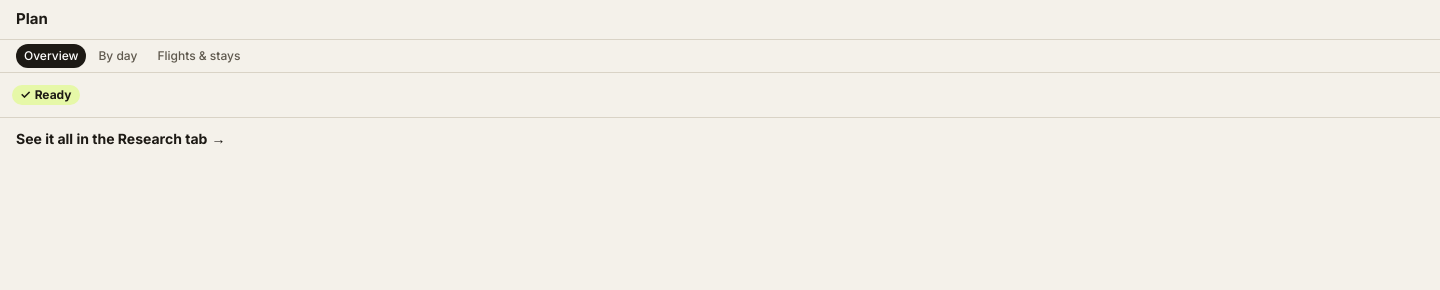
Test: ResearchPlanPanel › shows flight and hotel cards on the Flights & stays tab
Click the button "Flights & stays" at (199, 56), box [149, 44, 248, 68]
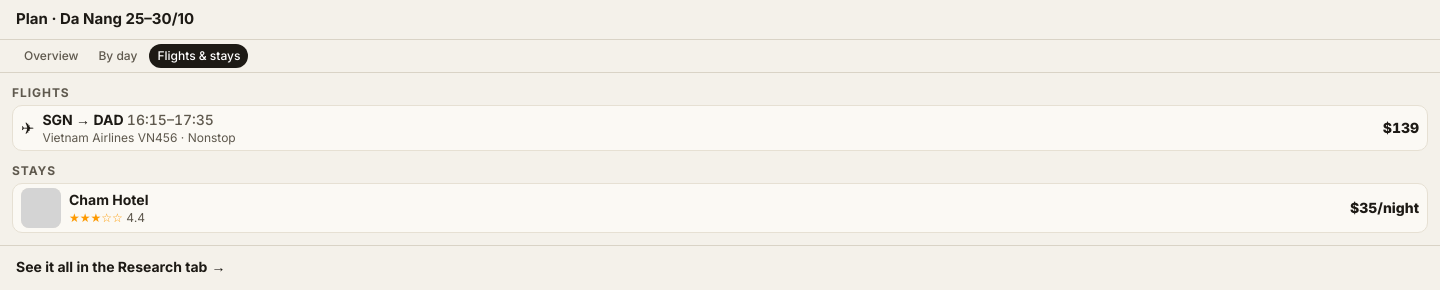
Now the text "SGN → DAD" is shown, box [42, 110, 214, 128]
Now the text "Cham Hotel" is shown, box [69, 190, 148, 208]
